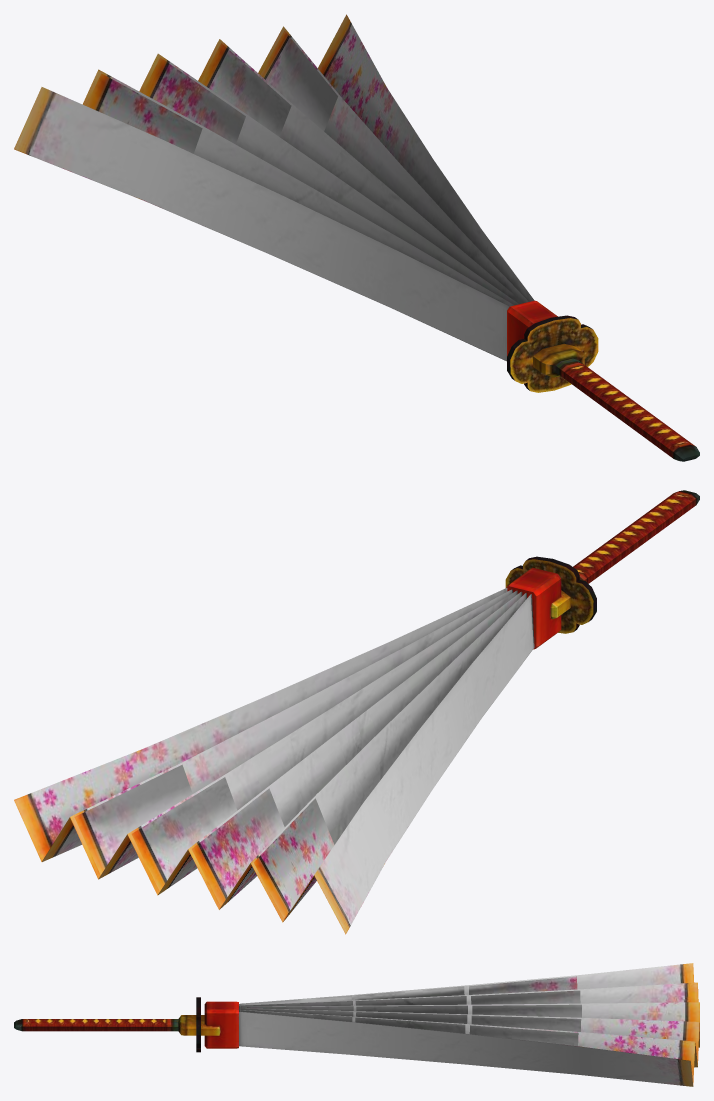
Rendered from sword_harisen_sword_sword1_2.glb.
3 renders of one model, top to bottom at view 1: azimuth 30°, elevation 25°; view 2: azimuth 150°, elevation 25°; view 3: azimuth 270°, elevation 25°, orthographic. The views are drawn at different scales.
Bounding box in the file's own units: 0.4814 × 0.0973 × 1.3.
Materials: 1 (1 with a texture image).
